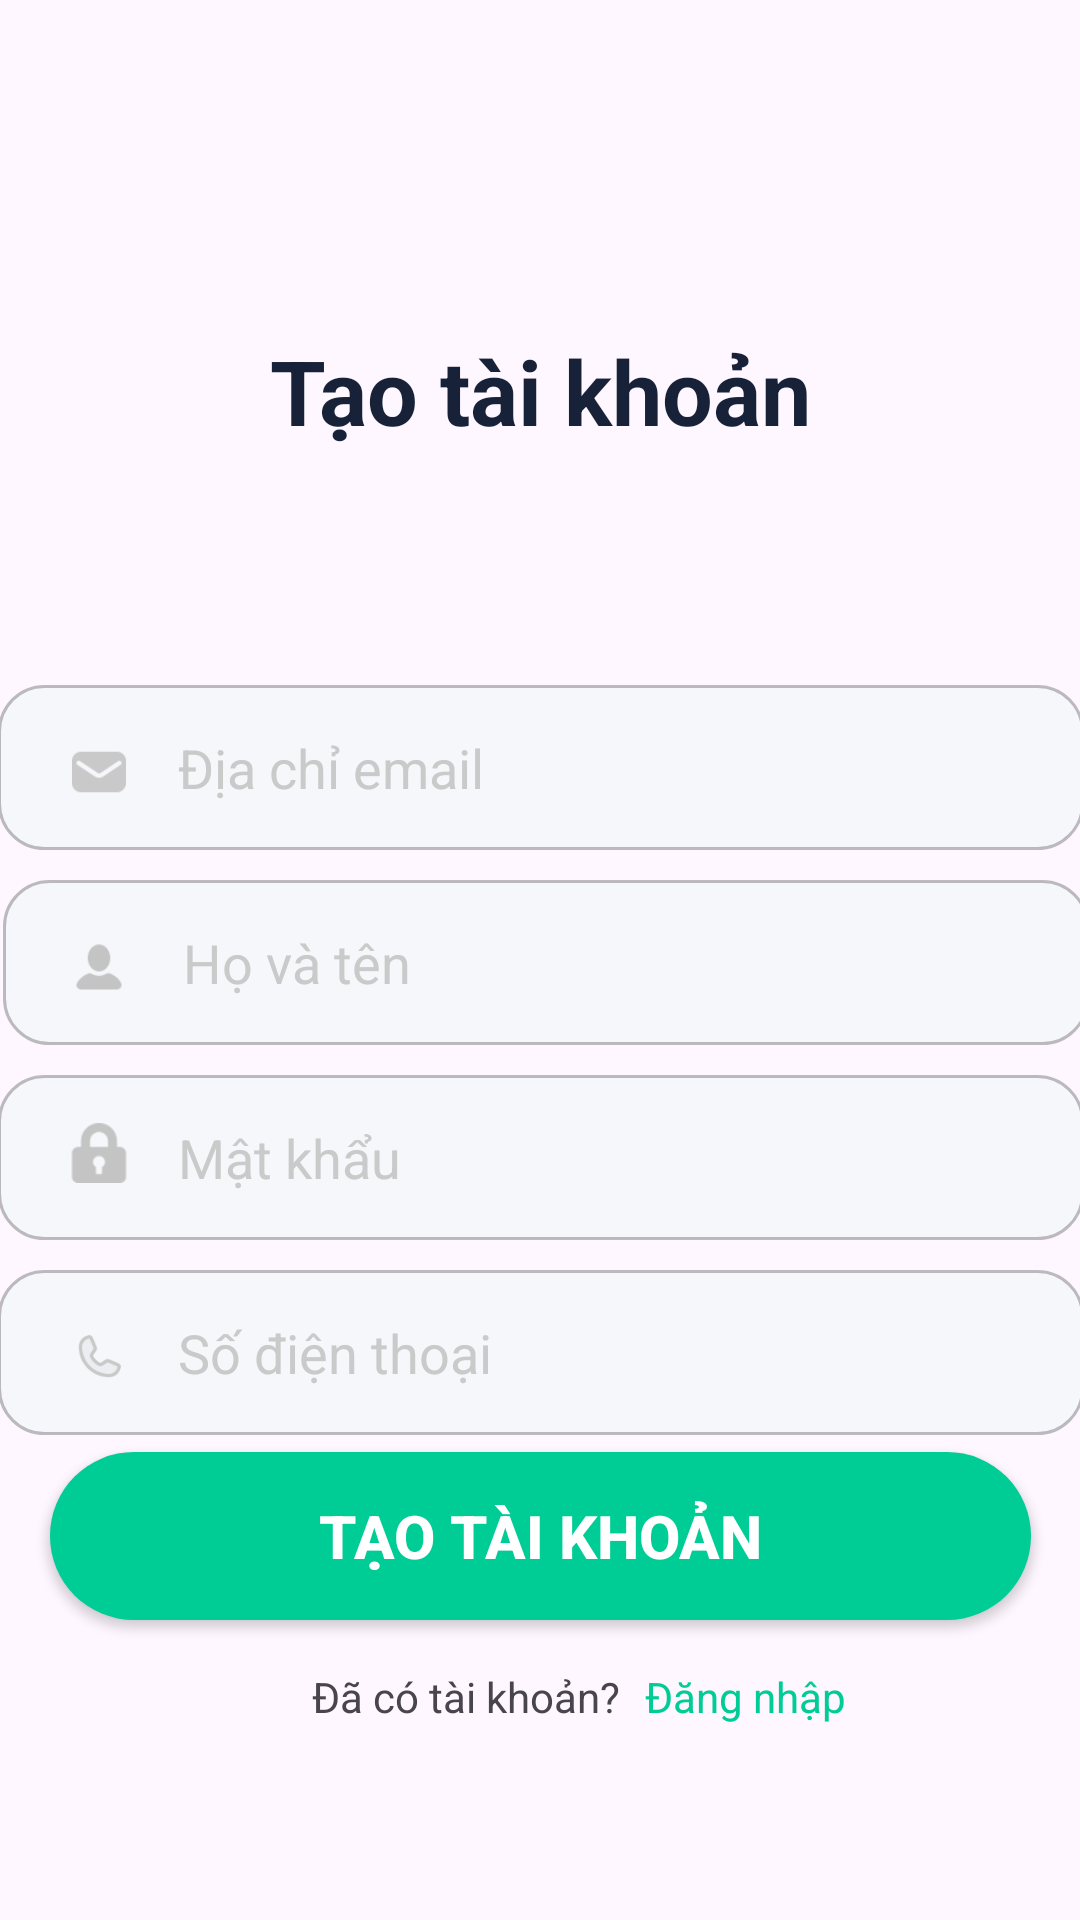

Screen size 1080 x 1920. Icon name, then its center in pixels as [x,y]:
lock: [99,1153]
phone: [100,1356]
profile: [99,967]
